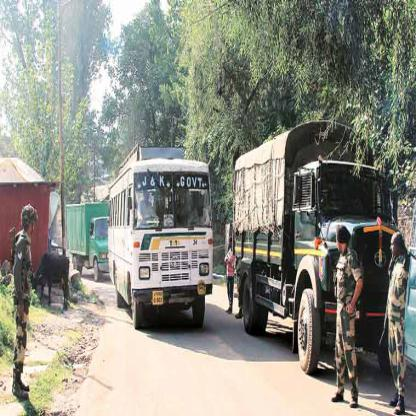bus: (139, 202, 272, 415)
truck: (300, 171, 416, 415), (85, 287, 141, 392)
